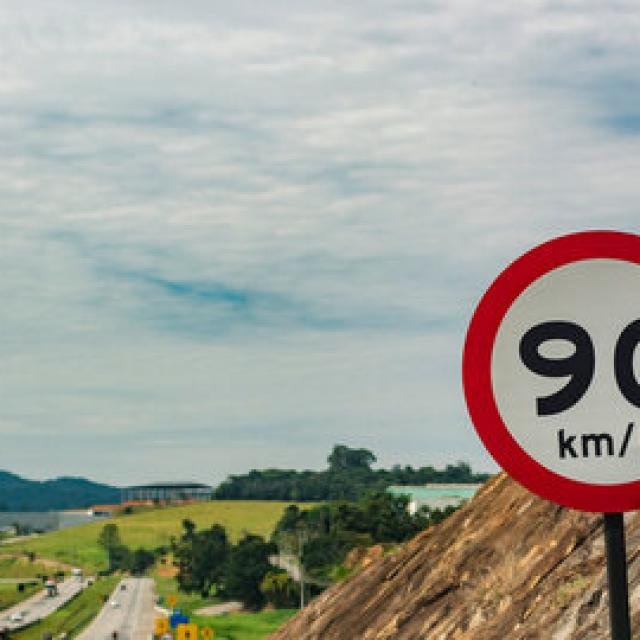Speed Limit -90-: (455, 220, 640, 517)
